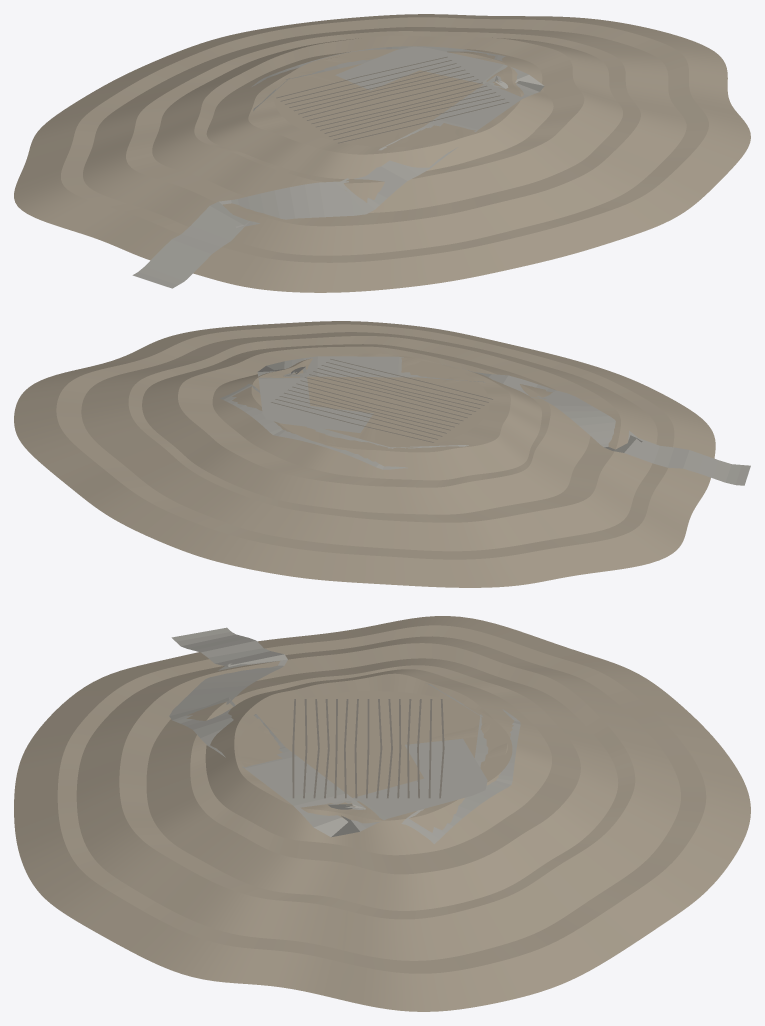
The model's file is cover.glb.
3 renders of one model, top to bottom at view 1: azimuth 30°, elevation 25°; view 2: azimuth 150°, elevation 25°; view 3: azimuth 270°, elevation 25°, orthographic. The views are drawn at different scales.
Parts seen in each view (by area): view 1: CoverSlope01, CoverSlope02, CoverSlope03, CoverBench01, CoverHaulRoad, CoverBench02, CoverSoil, CoverSlope04, CoverBench03, CoverBench04, CoverTracks, CoverBenchRoad; view 2: CoverSlope01, CoverSlope02, CoverSlope03, CoverBench01, CoverBench02, CoverHaulRoad, CoverSlope04, CoverSoil, CoverBench03, CoverBench04, CoverTracks, CoverBenchRoad; view 3: CoverSlope01, CoverSlope02, CoverSlope03, CoverBench01, CoverBench02, CoverSlope04, CoverSoil, CoverHaulRoad, CoverBench03, CoverBench04, CoverTracks, CoverBenchRoad.
Part boxes in pixels (left/top/right/bottom): CoverSlope01: left=14, top=14, right=750, bottom=292; CoverSlope02: left=83, top=27, right=686, bottom=255; CoverSlope03: left=152, top=37, right=622, bottom=212; CoverBench01: left=61, top=17, right=708, bottom=262; CoverHaulRoad: left=132, top=46, right=544, bottom=288; CoverBench02: left=126, top=31, right=640, bottom=226; CoverSoil: left=274, top=49, right=503, bottom=146; CoverSlope04: left=206, top=49, right=553, bottom=178; CoverBench03: left=194, top=35, right=584, bottom=183; CoverBench04: left=248, top=52, right=521, bottom=154; CoverTracks: left=276, top=56, right=509, bottom=143; CoverBenchRoad: left=252, top=46, right=505, bottom=111; CoverSlope01: left=14, top=321, right=715, bottom=587; CoverSlope02: left=81, top=332, right=657, bottom=551; CoverSlope03: left=142, top=344, right=590, bottom=514; CoverBench01: left=56, top=324, right=674, bottom=559; CoverBench02: left=128, top=336, right=620, bottom=522; CoverHaulRoad: left=257, top=356, right=750, bottom=485; CoverSlope04: left=212, top=359, right=541, bottom=480; CoverSoil: left=278, top=357, right=489, bottom=449; CoverBench03: left=178, top=346, right=550, bottom=487; CoverBench04: left=251, top=353, right=510, bottom=452; CoverTracks: left=271, top=359, right=492, bottom=442; CoverBenchRoad: left=220, top=384, right=468, bottom=469; CoverSlope01: left=14, top=616, right=750, bottom=1011; CoverSlope02: left=76, top=636, right=680, bottom=960; CoverSlope03: left=146, top=658, right=618, bottom=910; CoverBench01: left=57, top=625, right=706, bottom=973; CoverBench02: left=119, top=643, right=635, bottom=919; CoverSlope04: left=205, top=669, right=551, bottom=855; CoverSoil: left=237, top=691, right=512, bottom=806; CoverHaulRoad: left=169, top=627, right=487, bottom=837; CoverBench03: left=190, top=665, right=580, bottom=874; CoverBench04: left=234, top=673, right=506, bottom=820; CoverTracks: left=292, top=699, right=444, bottom=798; CoverBenchRoad: left=401, top=683, right=520, bottom=843.
Size of the model in its own units: 112 by 8.5 by 88.
